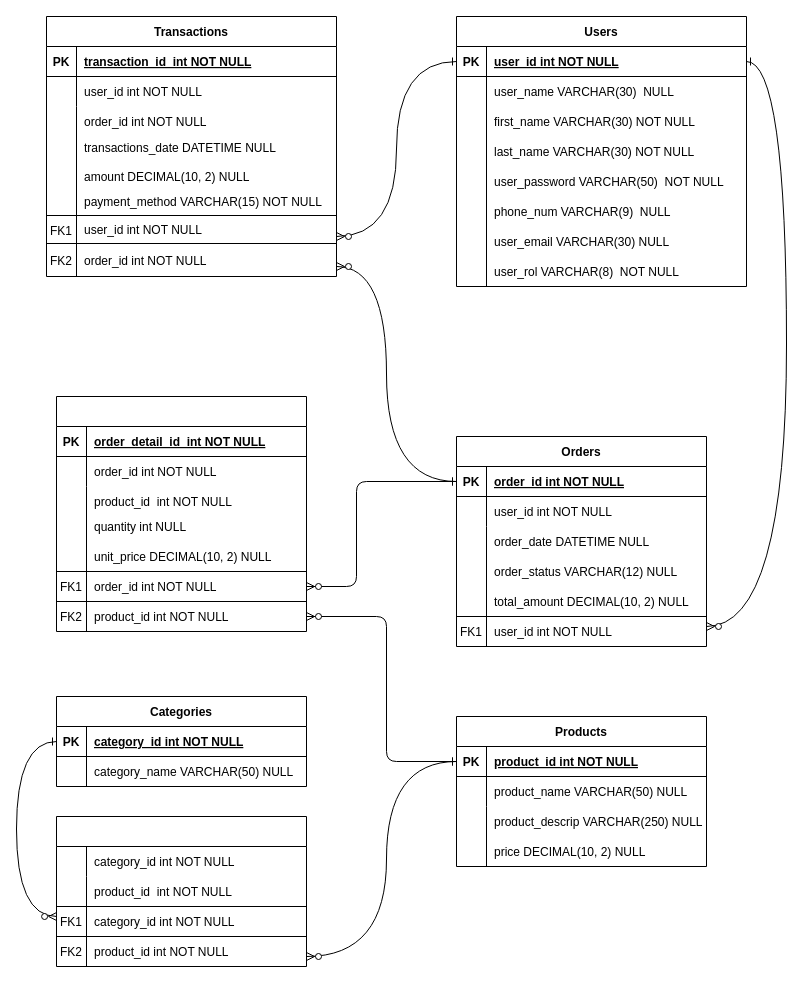
This 803x983 diagram has some shape labels left out. The box of each missing label's shape, as (x1, y1, x2, y2) in pixels:
OrdersDetails: (56, 396, 306, 632)
ProductsCategories: (56, 816, 306, 966)
